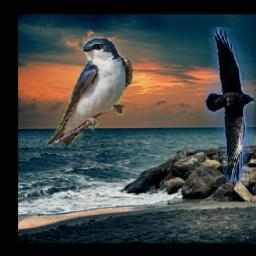Crow: (206, 28, 255, 183)
Swallow: (46, 37, 134, 147)
